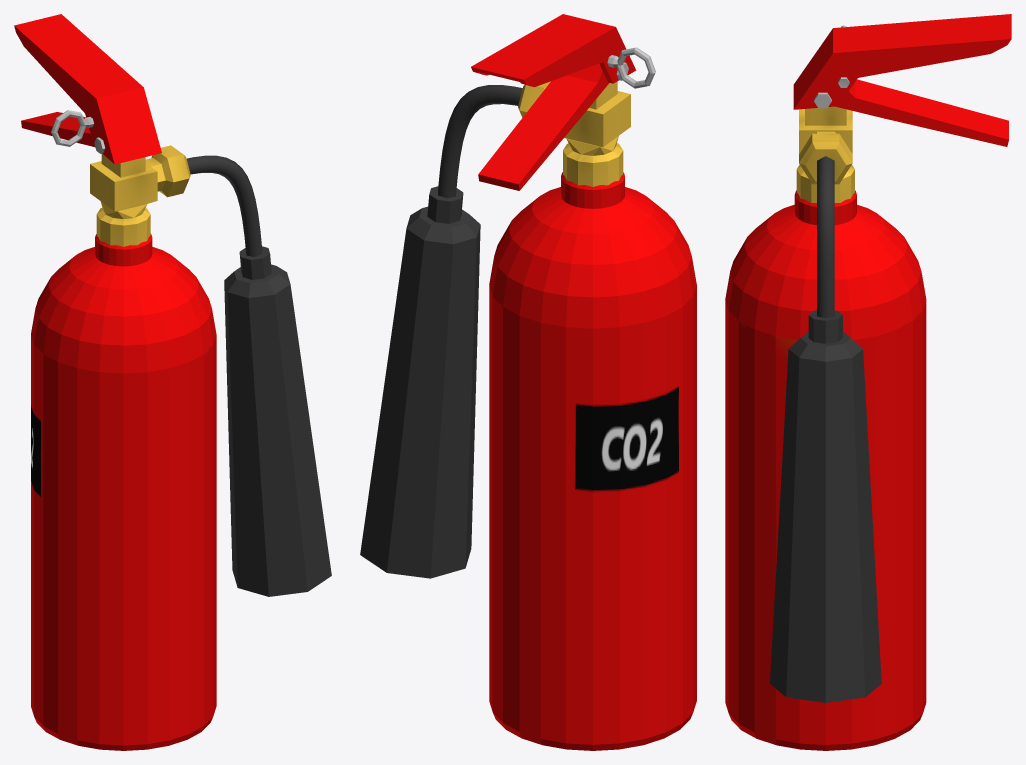
The model's file is FireExtinguisher.fbx.
3 renders of one model, left to right at view 1: azimuth 30°, elevation 25°; view 2: azimuth 150°, elevation 25°; view 3: azimuth 270°, elevation 25°, orthographic. The views are drawn at different scales.
Visible parts, largest first — view 1: FireExtinguisherBody, Nozzle, Trigger, Pin; view 2: FireExtinguisherBody, Nozzle, Trigger, Pin; view 3: FireExtinguisherBody, Nozzle, Trigger.
Boxes of the visible parts, <box> form: FireExtinguisherBody: <box>14,14,216,750</box>; Nozzle: <box>186,155,331,596</box>; Trigger: <box>21,112,94,146</box>; Pin: <box>51,110,93,146</box>; FireExtinguisherBody: <box>471,14,696,750</box>; Nozzle: <box>360,85,522,578</box>; Trigger: <box>478,64,609,190</box>; Pin: <box>598,47,655,88</box>; FireExtinguisherBody: <box>725,14,1011,750</box>; Nozzle: <box>770,156,881,702</box>; Trigger: <box>836,79,1008,146</box>.
Bounding box in the file's own units: 353 × 749 × 285.
